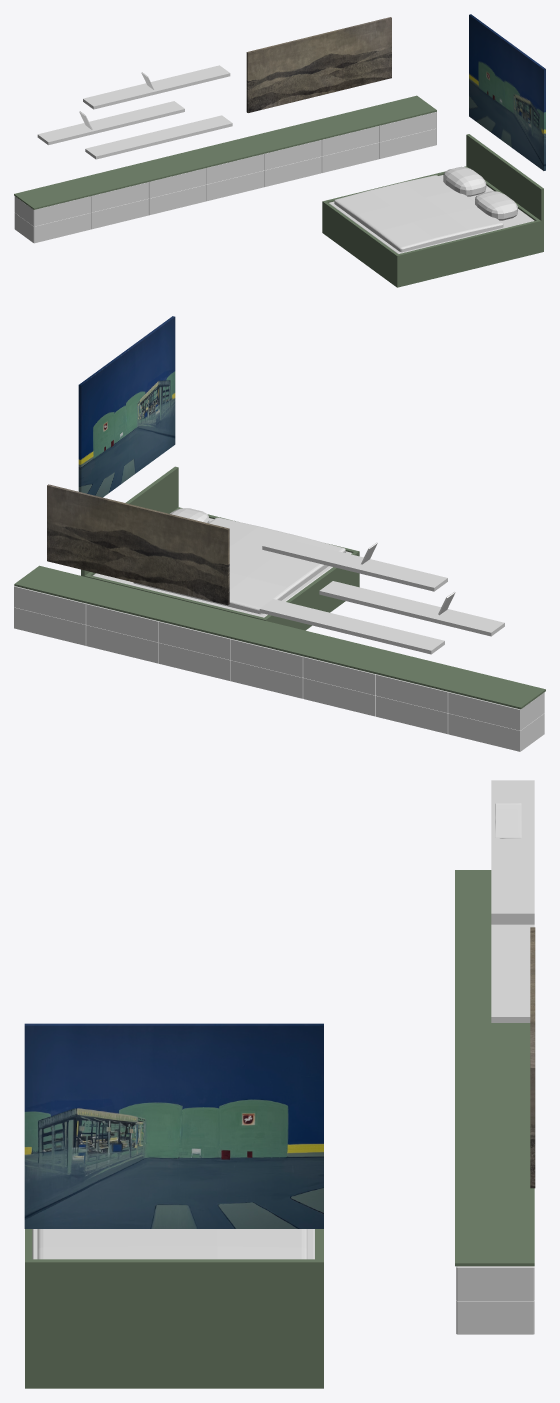
Rendered from SchlafzimmerLayout_01.gltf.
The picture shows the model from 3 angles, top to bottom: view 1: azimuth 30°, elevation 25°; view 2: azimuth 150°, elevation 25°; view 3: azimuth 270°, elevation 25°; orthographic projection. The views are drawn at different scales.
Visible parts, largest first — view 1: Curve.067, Bild.006, Regal.014, Bild.007, BettZeugs.015, Curve.071, Curve.072, Regal.017, Regal.016, Regal.015, BettZeugs.013, BettZeugs.014 (+1 smaller); view 2: Bild.006, Regal.014, Bild.007, Curve.072, Curve.071, BettZeugs.015, Curve.067, Regal.017, Regal.016, Regal.015, BettZeugs.012; view 3: Bild.007, Curve.067, Regal.014, BettZeugs.015, Regal.016, Regal.017, Curve.072, Curve.071, Bild.006, Cube.270.
Boxes of the visible parts, left/top/right/bottom form: Curve.067: left=322, top=134, right=543, bottom=287; Bild.006: left=246, top=17, right=391, bottom=112; Regal.014: left=14, top=95, right=436, bottom=209; Bild.007: left=469, top=14, right=545, bottom=170; BettZeugs.015: left=334, top=175, right=503, bottom=252; Curve.071: left=14, top=128, right=436, bottom=243; Curve.072: left=14, top=112, right=436, bottom=226; Regal.017: left=85, top=115, right=232, bottom=159; Regal.016: left=83, top=65, right=230, bottom=109; Regal.015: left=37, top=101, right=184, bottom=145; BettZeugs.013: left=443, top=166, right=486, bottom=196; BettZeugs.014: left=475, top=191, right=517, bottom=220; Bild.006: left=47, top=484, right=229, bottom=605; Regal.014: left=14, top=565, right=545, bottom=709; Bild.007: left=78, top=316, right=175, bottom=497; Curve.072: left=14, top=586, right=544, bottom=730; Curve.071: left=14, top=607, right=544, bottom=751; BettZeugs.015: left=133, top=517, right=345, bottom=614; Curve.067: left=81, top=466, right=359, bottom=630; Regal.017: left=259, top=599, right=444, bottom=654; Regal.016: left=262, top=536, right=447, bottom=591; Regal.015: left=319, top=581, right=504, bottom=636; BettZeugs.012: left=93, top=518, right=351, bottom=617; Bild.007: left=24, top=1023, right=323, bottom=1228; Curve.067: left=25, top=1229, right=323, bottom=1388; Regal.014: left=455, top=870, right=534, bottom=1266; BettZeugs.015: left=37, top=1229, right=307, bottom=1259; Regal.016: left=491, top=780, right=534, bottom=919; Regal.017: left=491, top=924, right=534, bottom=1022; Curve.072: left=456, top=1266, right=534, bottom=1300; Curve.071: left=456, top=1300, right=534, bottom=1334; Bild.006: left=530, top=927, right=535, bottom=1188; Cube.270: left=495, top=803, right=521, bottom=838.
Size of the model in its own units: 5.62 by 2.42 by 3.07.
Materials: 5 (2 with a texture image).
